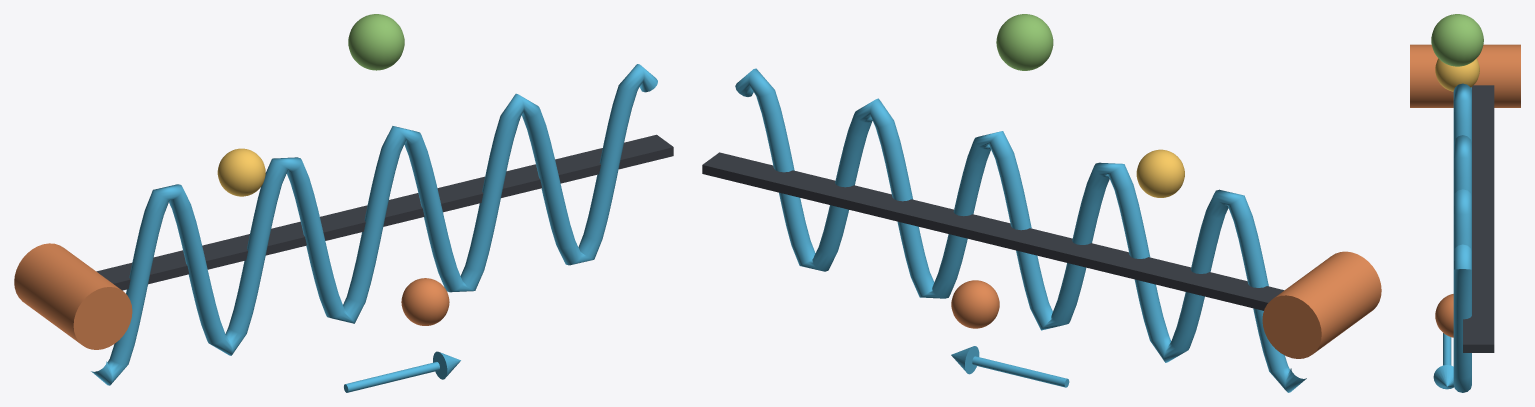
Rendered from physics-waves-frequency.glb.
3 views of the same model, side by side, from view 1: azimuth 30°, elevation 25°; view 2: azimuth 150°, elevation 25°; view 3: azimuth 270°, elevation 25° (orthographic). The views are drawn at different scales.
Parts seen in each view (by area): view 1: wave-curve-energy-transfer, rest-line-reference, fast-source-oscillator, cycle-counter-fixed-marker, crest-high-point, trough-low-point, shorter-spacing-indicator-shaft; view 2: wave-curve-energy-transfer, rest-line-reference, fast-source-oscillator, cycle-counter-fixed-marker, trough-low-point, crest-high-point, shorter-spacing-indicator-shaft; view 3: rest-line-reference, wave-curve-energy-transfer, fast-source-oscillator, cycle-counter-fixed-marker, crest-high-point, trough-low-point, shorter-spacing-indicator-head, shorter-spacing-indicator-shaft.
Part boxes in pixels (bbox=[...]): wave-curve-energy-transfer: bbox=[91, 64, 657, 385]; rest-line-reference: bbox=[96, 134, 673, 290]; fast-source-oscillator: bbox=[14, 243, 132, 349]; cycle-counter-fixed-marker: bbox=[348, 14, 404, 70]; crest-high-point: bbox=[217, 148, 265, 196]; trough-low-point: bbox=[401, 278, 449, 325]; shorter-spacing-indicator-shaft: bbox=[344, 362, 439, 392]; wave-curve-energy-transfer: bbox=[735, 68, 1306, 392]; rest-line-reference: bbox=[702, 152, 1284, 310]; fast-source-oscillator: bbox=[1262, 251, 1381, 358]; cycle-counter-fixed-marker: bbox=[996, 14, 1053, 70]; trough-low-point: bbox=[951, 280, 999, 328]; crest-high-point: bbox=[1136, 149, 1184, 197]; shorter-spacing-indicator-shaft: bbox=[972, 356, 1069, 387]; rest-line-reference: bbox=[1463, 85, 1494, 352]; wave-curve-energy-transfer: bbox=[1453, 83, 1471, 392]; fast-source-oscillator: bbox=[1410, 44, 1520, 107]; cycle-counter-fixed-marker: bbox=[1431, 14, 1483, 66]; crest-high-point: bbox=[1435, 58, 1479, 91]; trough-low-point: bbox=[1435, 294, 1453, 337]; shorter-spacing-indicator-head: bbox=[1433, 365, 1453, 389]; shorter-spacing-indicator-shaft: bbox=[1443, 333, 1451, 365].
Size of what is drawn, in the model's own units: 2.57 by 1.45 by 0.42.
